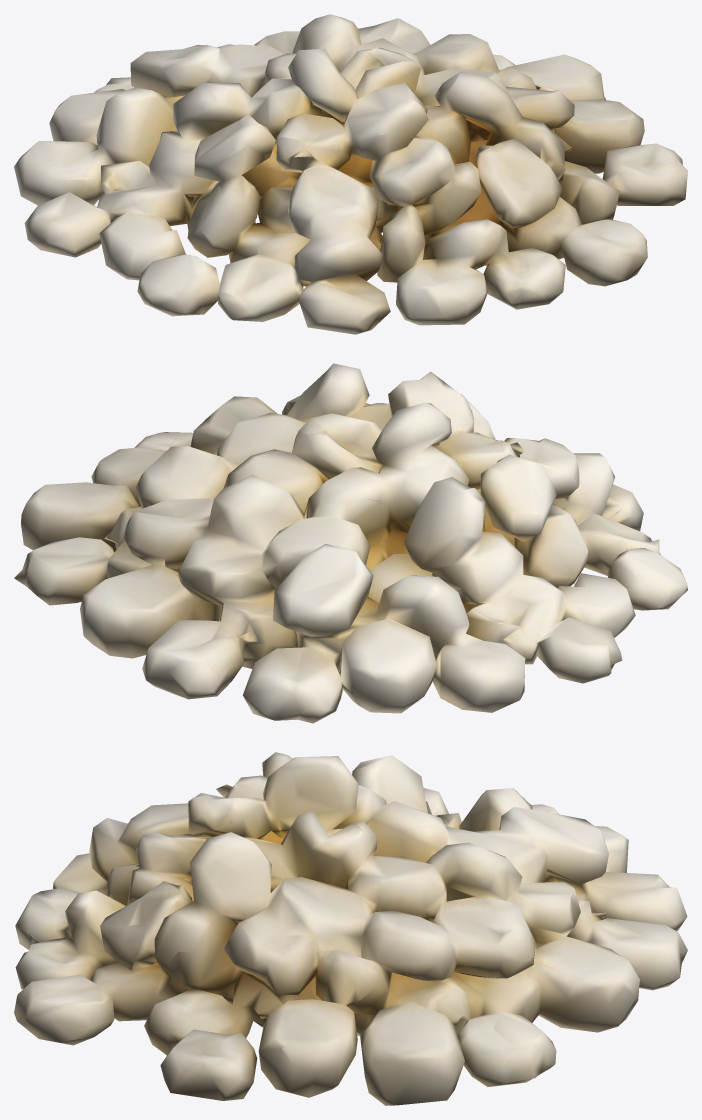
File: mote.glb
3 renders of one model, top to bottom at view 1: azimuth 30°, elevation 25°; view 2: azimuth 150°, elevation 25°; view 3: azimuth 270°, elevation 25°, orthographic. The views are drawn at different scales.
Parts seen in each view (by area): view 1: tripo_node_ce3067b0-4b94-4ee1-b729-9a1c67319460; view 2: tripo_node_ce3067b0-4b94-4ee1-b729-9a1c67319460; view 3: tripo_node_ce3067b0-4b94-4ee1-b729-9a1c67319460.
Part boxes in pixels (<box>): tripo_node_ce3067b0-4b94-4ee1-b729-9a1c67319460: <box>14,14,687,334</box>; tripo_node_ce3067b0-4b94-4ee1-b729-9a1c67319460: <box>14,363,687,723</box>; tripo_node_ce3067b0-4b94-4ee1-b729-9a1c67319460: <box>14,752,687,1105</box>.
Size of the model in its own units: 1 by 0.2902 by 0.965.
Materials: 1 (1 with a texture image).
